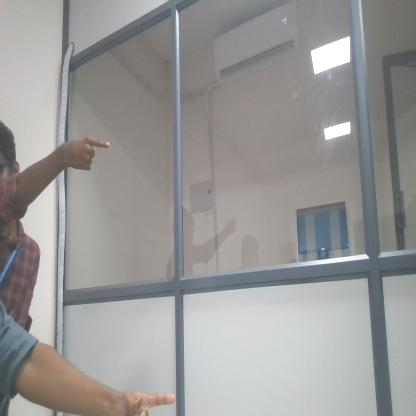Left: (68, 128, 112, 180)
